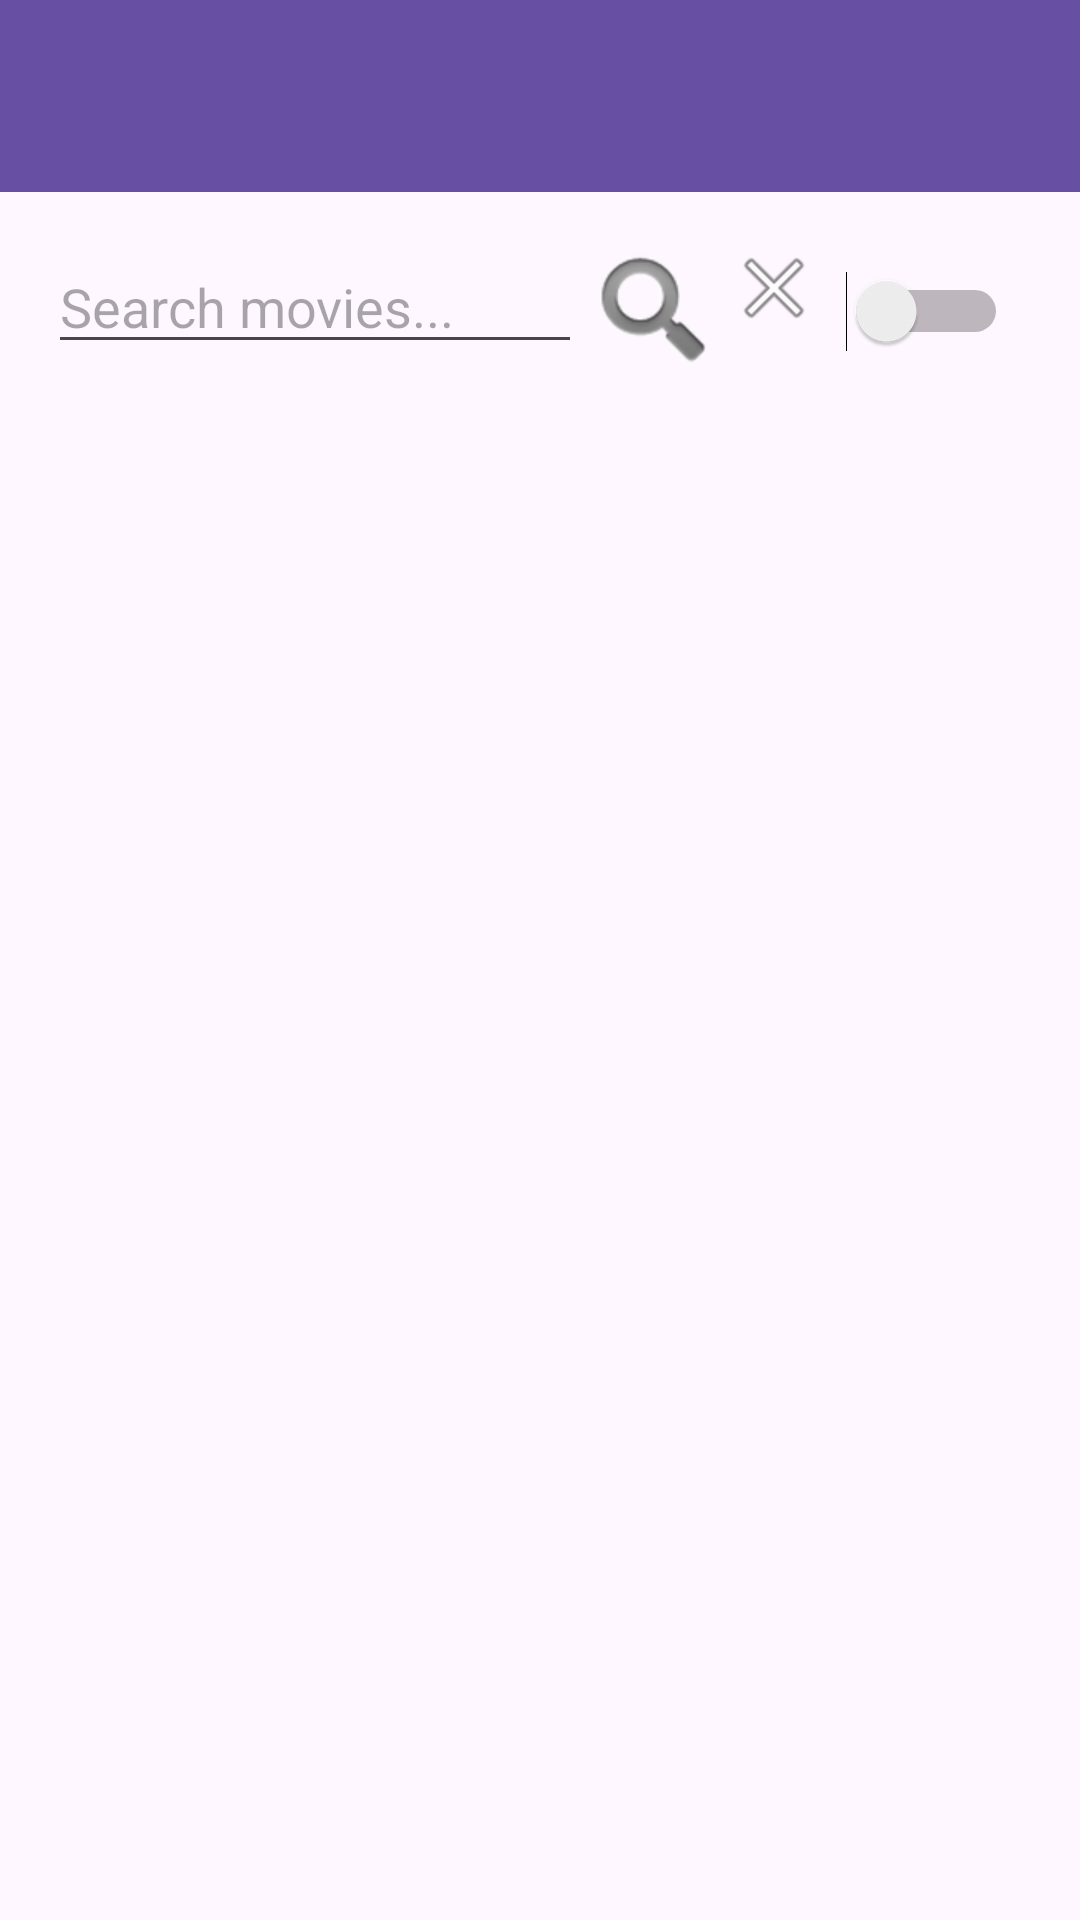

Icon click points for this 1080×1920 phone screenshot, format (x,y):
close clear cancel: (774,288)
search category: (653,309)
